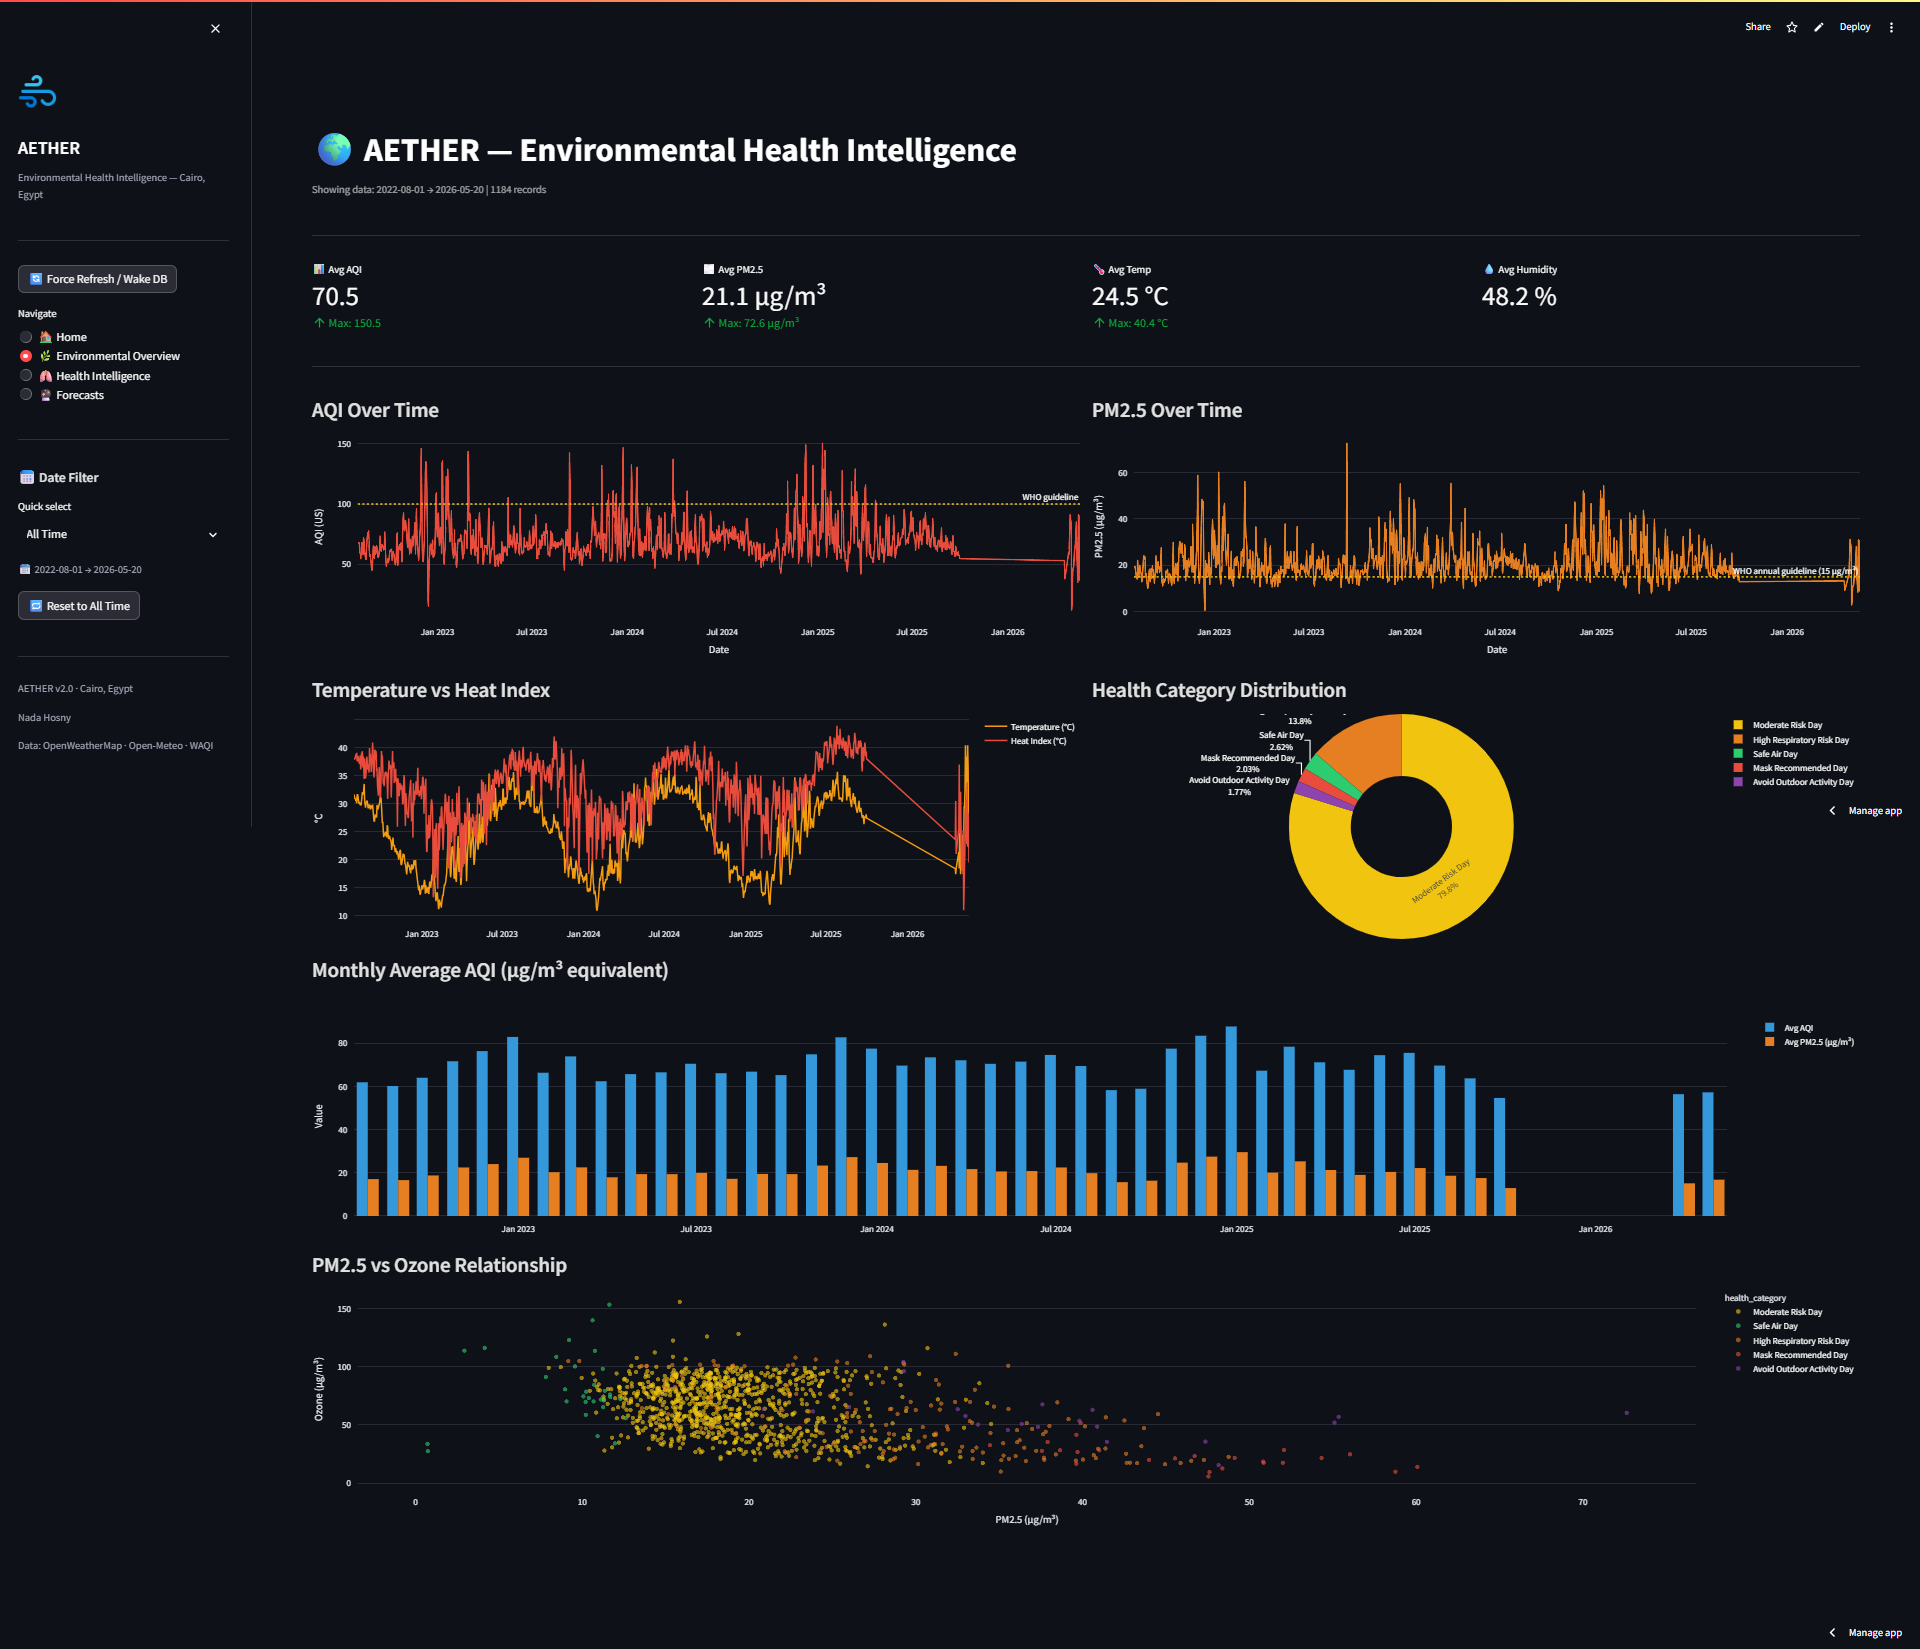

The dashboard page shown, as its layout file describes it:
{"tool":"powerbi","page":{"name":"Page 1","canvas":[1280,720],"ordinal":0},"visuals":[{"type":"cardVisual","fields":{"Data":["DAX.Total Days","DAX.Average AQI","DAX.Average Heat Index","DAX.Dangerous Days Rate","DAX.Latest Health Category"]},"box":[10,0,910,146.7],"z":0},{"type":"lineChart","fields":{"Category":["DimDate.month","DimDate.year"],"Y":["DAX.Average AQI"],"Y2":["DAX.Average PM25"]},"box":[10,123.3,910,126.7],"z":1},{"type":"actionButton","box":[0,0,100,40],"z":2},{"type":"lineChart","fields":{"Category":["DimDate.month","DimDate.year"],"Y":["DAX.Average Heat Index"]},"box":[0,275,910,113.3],"z":3},{"type":"donutChart","fields":{"Category":["EnvironmentalFeatures.health_category"],"Y":["DAX.Total Days"]},"box":[0,538.3,356.7,181.7],"z":4},{"type":"columnChart","fields":{"Category":["DimDate.month"],"Y":["DAX.Average AQI"]},"box":[0,388.3,870,150],"z":5},{"type":"scatterChart","fields":{"X":["EnvironmentalFeatures.temperature"],"Y":["EnvironmentalFeatures.pm25"],"Series":["EnvironmentalFeatures.health_category"],"Size":["Sum(EnvironmentalFeatures.aqi)"]},"box":[935,186.7,345,295],"z":6},{"type":"slicer","fields":{"Values":["DimDate.date"]},"box":[1043.3,538.3,236.7,181.7],"z":7}]}

Visuals, with their boxes on the page's 1280x720 design canvas (x1, y1, x2, y2). These are canvas units, not pixel positions in the 1920x1649 screenshot, which may show the page scaled, cropped or inside an application window:
cardVisual - DAX.Total Days x DAX.Average AQI: (10,0,920,147)
lineChart - DimDate.month x DimDate.year: (10,123,920,250)
actionButton: (0,0,100,40)
lineChart - DimDate.month x DimDate.year: (0,275,910,388)
donutChart - EnvironmentalFeatures.health_category x DAX.Total Days: (0,538,357,720)
columnChart - DimDate.month x DAX.Average AQI: (0,388,870,538)
scatterChart - EnvironmentalFeatures.temperature x EnvironmentalFeatures.pm25: (935,187,1280,482)
slicer - DimDate.date: (1043,538,1280,720)
